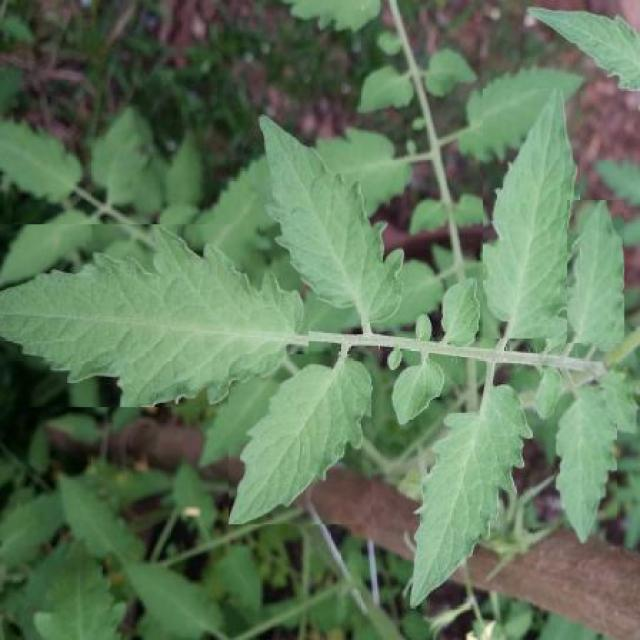Healthy: (0, 224, 309, 407), (260, 113, 404, 323), (408, 385, 533, 608), (482, 89, 580, 338), (229, 354, 372, 524), (554, 388, 617, 545), (568, 200, 625, 344)
